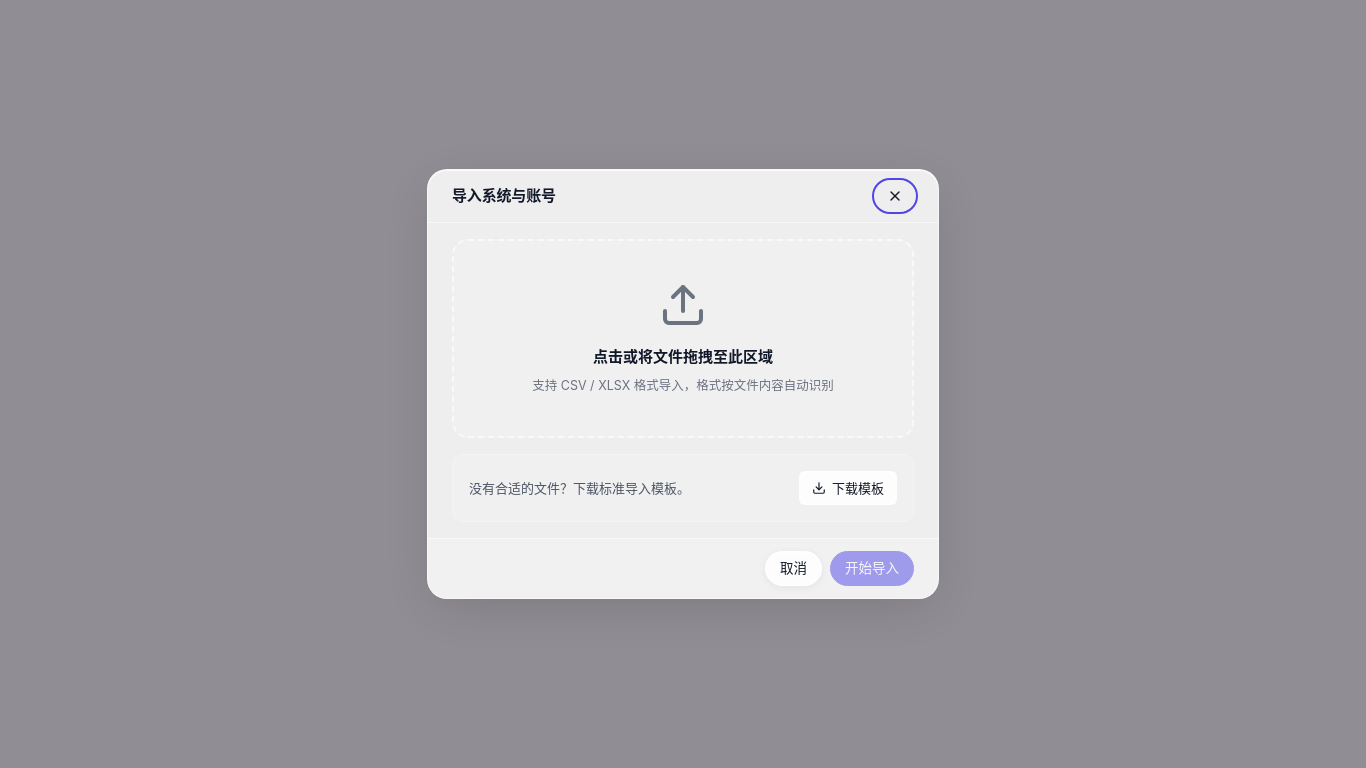
导入面（原型 819-841） › 选了文件后，框里换成大图标 + 文件名，引导语让位（交付方 2026-10-19：否则看着像没选中）
Click the button with aria-label "选择要导入的 CSV 或 Excel 文件" at [683, 305], box [452, 239, 914, 438]
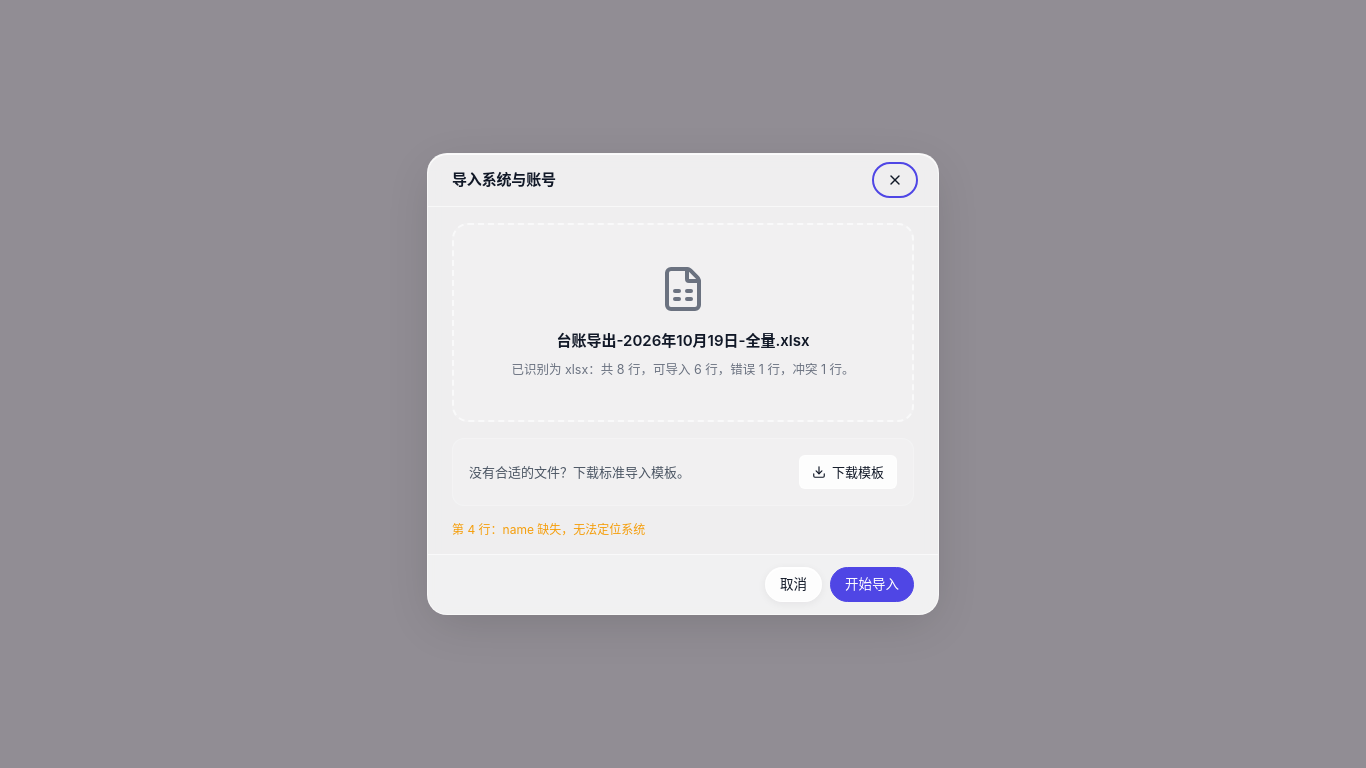
Now the text "台账导出-2026年10月19日-全量.xlsx" is shown, box [556, 331, 810, 350]
Now the button "点击或将文件拖拽至此区域" is gone
Now the message reads "已识别为 xlsx：共 8 行，可导入 6 行，错误 1 行，冲突 1 行。", box [512, 362, 855, 377]
